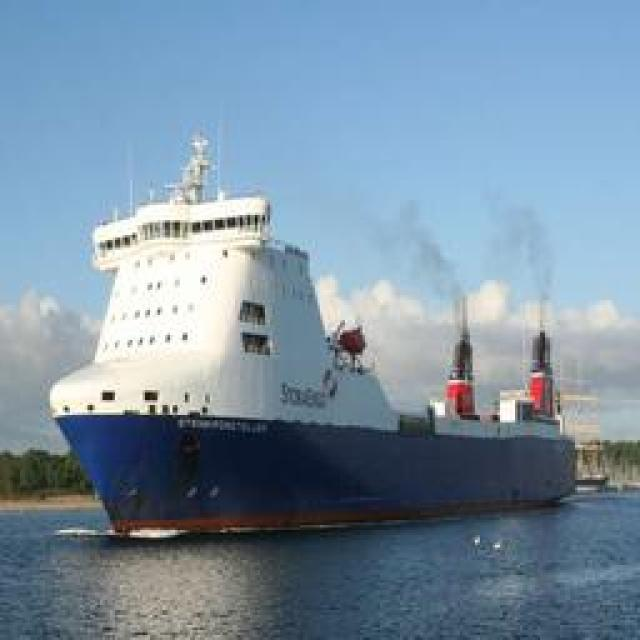CIV_Ship: (52, 135, 588, 528)
